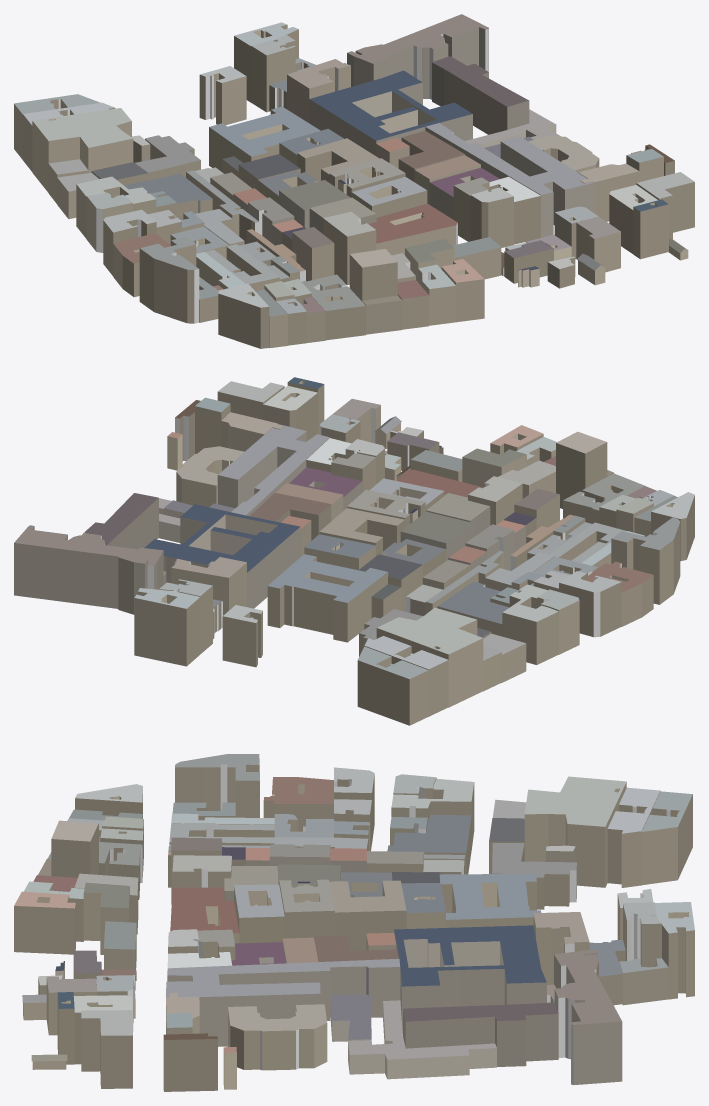
The picture shows the model from 3 angles, top to bottom: view 1: azimuth 30°, elevation 25°; view 2: azimuth 150°, elevation 25°; view 3: azimuth 270°, elevation 25°; orthographic projection. The views are drawn at different scales.
Visible parts, largest first — view 1: tuile; view 2: tuile; view 3: tuile.
Boxes of the visible parts, x1=… form: tuile: x1=14, y1=14, x2=694, y2=348; tuile: x1=14, y1=377, x2=694, y2=725; tuile: x1=14, y1=754, x2=694, y2=1091.
Bounding box in the file's own units: 254 × 31.62 × 259.
